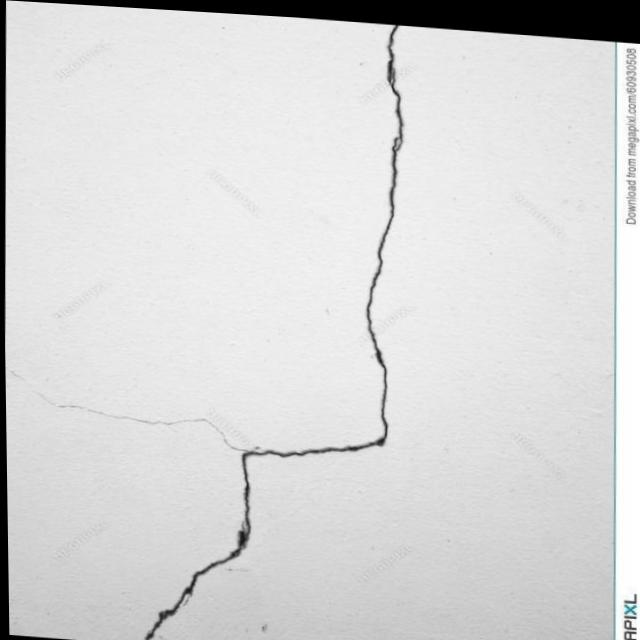Crack: (117, 5, 431, 640), (4, 362, 126, 443)
